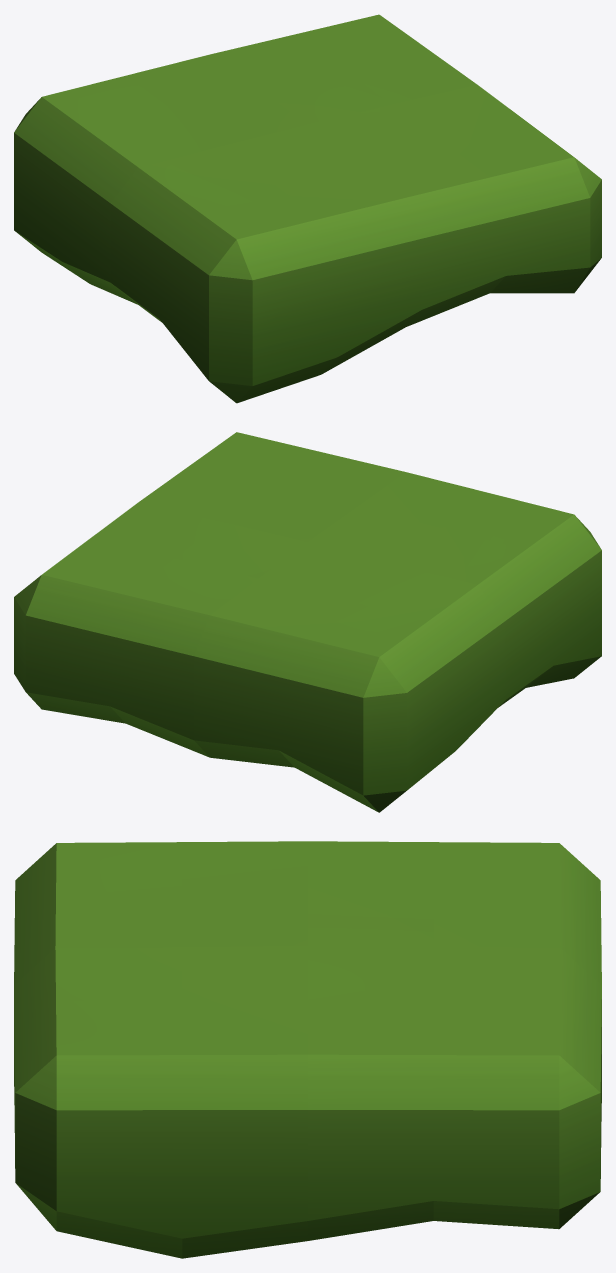
Rendered from m_deco_floorGrass_plate.FBX.
3 views of the same model, one above another, from view 1: azimuth 30°, elevation 25°; view 2: azimuth 150°, elevation 25°; view 3: azimuth 270°, elevation 25° (orthographic). The views are drawn at different scales.
Visible parts, largest first — view 1: m_deco_floorGrass_plate; view 2: m_deco_floorGrass_plate; view 3: m_deco_floorGrass_plate.
Boxes of the visible parts, x1,y1,x2,y2 form: m_deco_floorGrass_plate: (14, 14, 601, 403); m_deco_floorGrass_plate: (14, 432, 601, 812); m_deco_floorGrass_plate: (14, 841, 601, 1258).
Size of the model in its own units: 2.18 by 0.8793 by 2.18.
